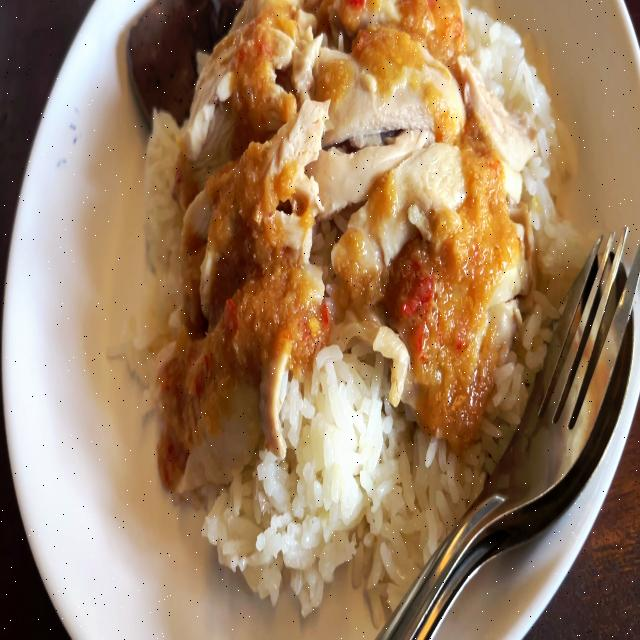boiled_chicken: (192, 3, 511, 450)
boiled_chicken_blood_jelly: (130, 0, 221, 110)
chicken_rice: (117, 8, 566, 589)
